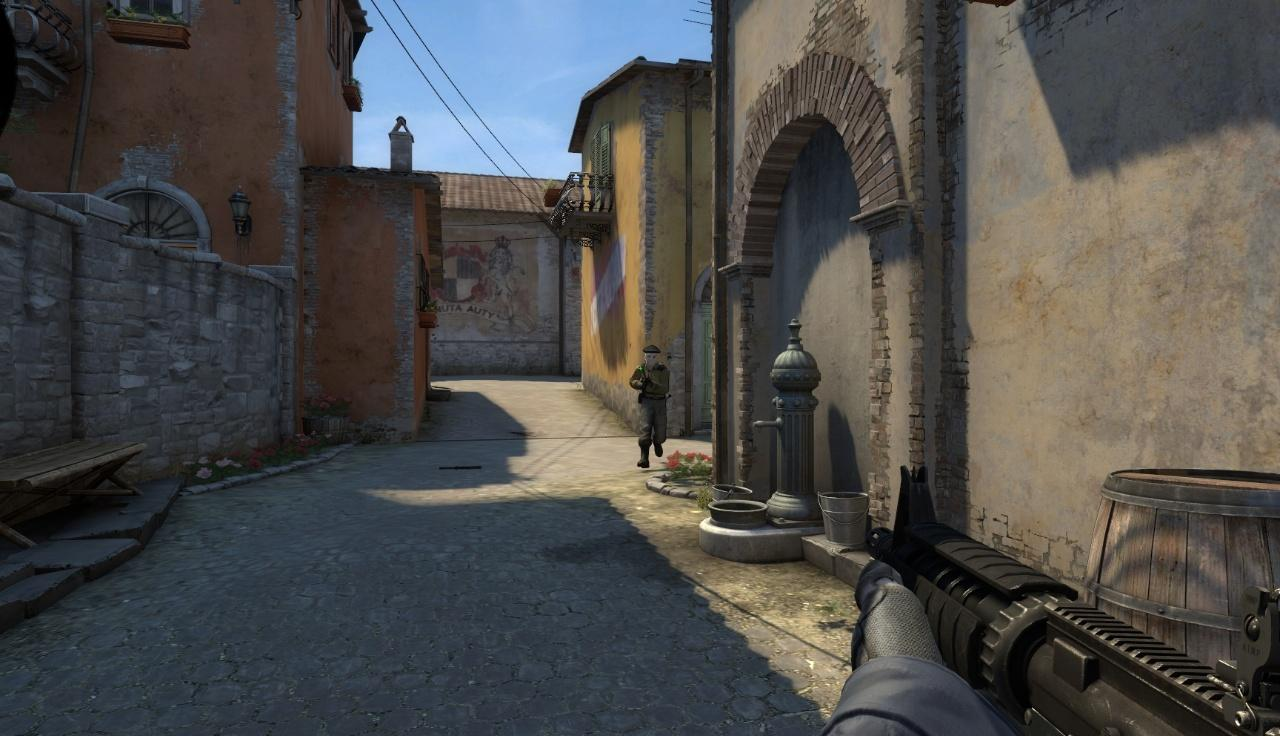rifle: (854, 467, 1280, 736)
tt: (635, 346, 667, 462)
tthead: (645, 347, 658, 367)
